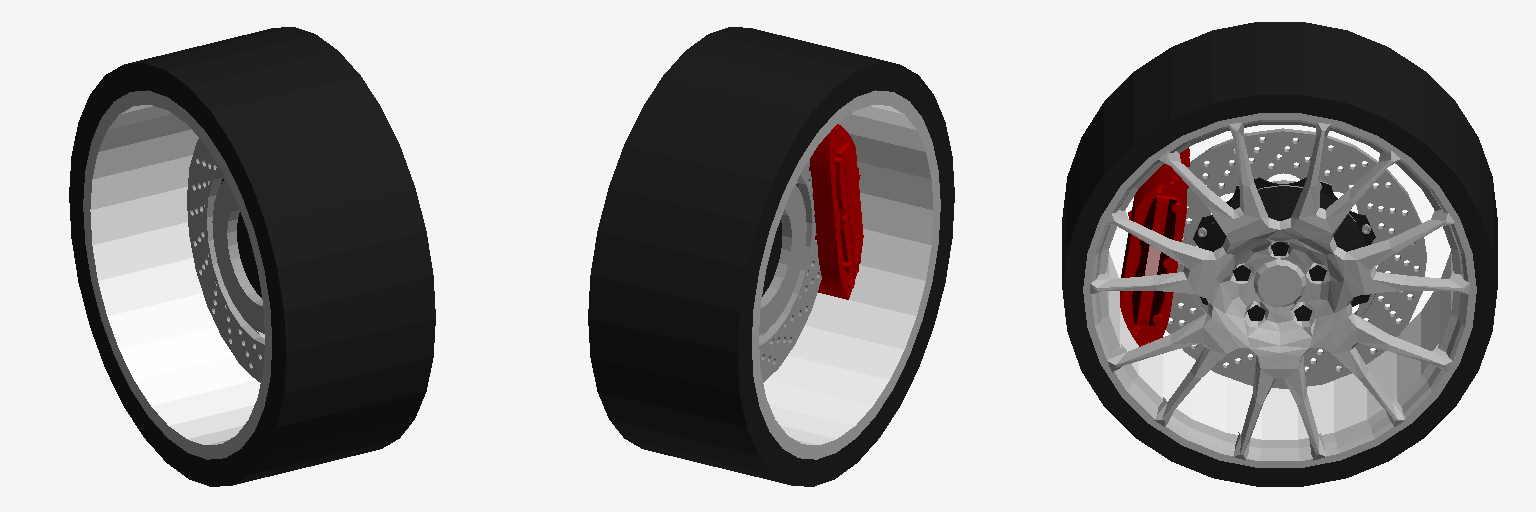
Rendered from mini_cooper.obj.
3 views of the same model, side by side, from view 1: azimuth 30°, elevation 25°; view 2: azimuth 150°, elevation 25°; view 3: azimuth 270°, elevation 25° (orthographic).
Visible parts, largest first — view 1: Mesh12 G_20_25_a1 Group1 ske265_1 Model, Mesh5 Group2 G_20_25_a1 Group1 ske265_1 Model; view 2: Mesh12 G_20_25_a1 Group1 ske265_1 Model, Mesh5 Group2 G_20_25_a1 Group1 ske265_1 Model, Mesh1 Group2 G_20_25_a1 Group1 ske265_1 Model; view 3: Mesh12 G_20_25_a1 Group1 ske265_1 Model, Mesh13 G_20_25_a1 Group1 ske265_1 Model, Mesh5 Group2 G_20_25_a1 Group1 ske265_1 Model, Mesh1 Group2 G_20_25_a1 Group1 ske265_1 Model, Mesh6 G_20_25_a1 Group1 ske265_1 Model.
Part boxes in pixels (bbox=[...]): Mesh12 G_20_25_a1 Group1 ske265_1 Model: bbox=[69, 27, 435, 486]; Mesh5 Group2 G_20_25_a1 Group1 ske265_1 Model: bbox=[187, 138, 264, 382]; Mesh12 G_20_25_a1 Group1 ske265_1 Model: bbox=[588, 27, 954, 486]; Mesh5 Group2 G_20_25_a1 Group1 ske265_1 Model: bbox=[759, 159, 821, 382]; Mesh1 Group2 G_20_25_a1 Group1 ske265_1 Model: bbox=[809, 124, 863, 299]; Mesh12 G_20_25_a1 Group1 ske265_1 Model: bbox=[1062, 22, 1497, 486]; Mesh13 G_20_25_a1 Group1 ske265_1 Model: bbox=[1090, 123, 1469, 460]; Mesh5 Group2 G_20_25_a1 Group1 ske265_1 Model: bbox=[1166, 128, 1426, 388]; Mesh1 Group2 G_20_25_a1 Group1 ske265_1 Model: bbox=[1120, 148, 1189, 346]; Mesh6 G_20_25_a1 Group1 ske265_1 Model: bbox=[1253, 259, 1305, 306].
Size of the model in its own units: 260 by 623 by 627.